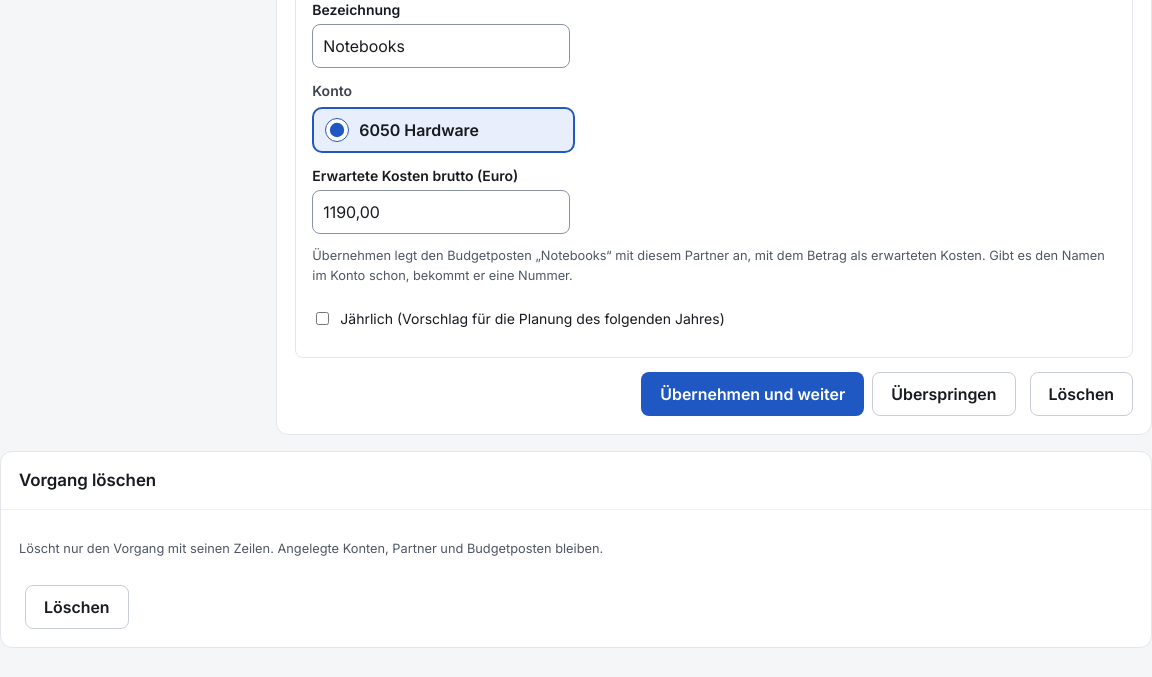
Test case: Import › übernimmt eine Zeile mit neuem Partner und springt zur nächsten
(page scrolled)
Expected: the radio button labelled "6050 Hardware" is checked, [325, 118, 349, 142]
Expected: the text "legt den Budgetposten „Notebooks“ mit diesem Partner an" is shown, [312, 248, 1105, 283]
Step 1. Click the button "Übernehmen und weiter" → (753, 394), box [641, 372, 864, 416]
(page scrolled)
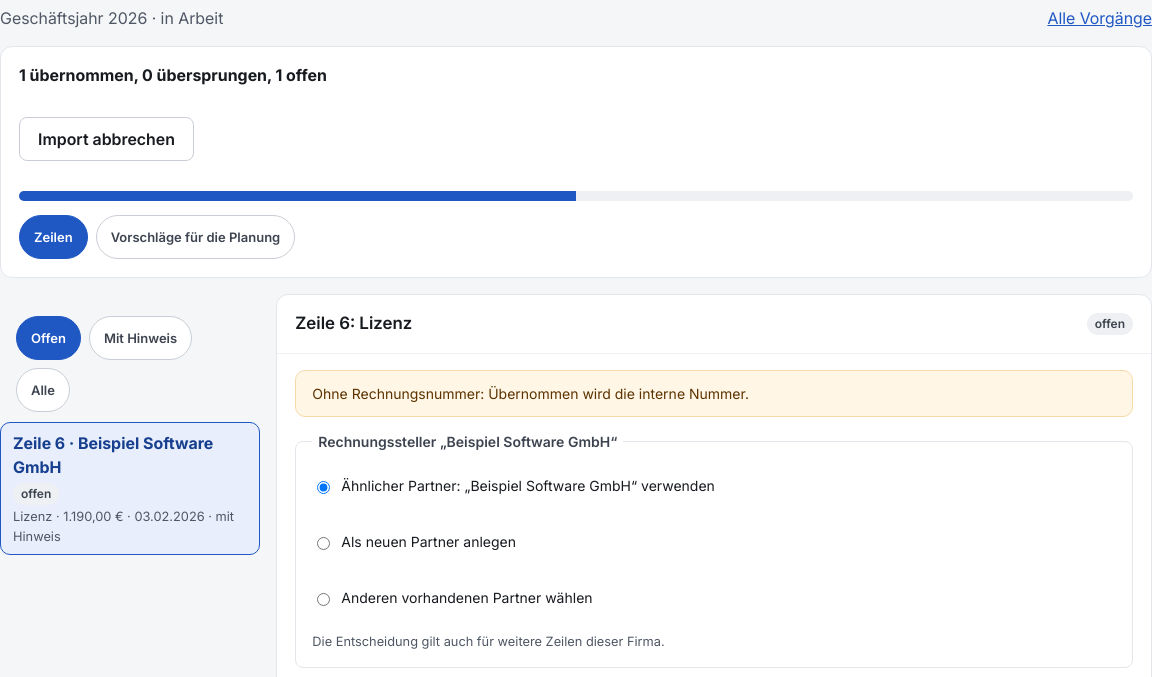
Expected: the heading "Zeile 6: Lizenz" is shown, [295, 311, 412, 337]
Expected: the radio button labelled "Ähnlicher Partner: „Beispiel Software GmbH“ verwenden" is checked, [317, 481, 330, 494]
Expected: the text "Ohne Rechnungsnummer: Übernommen wird die interne Nummer." is shown, [295, 370, 1133, 417]
